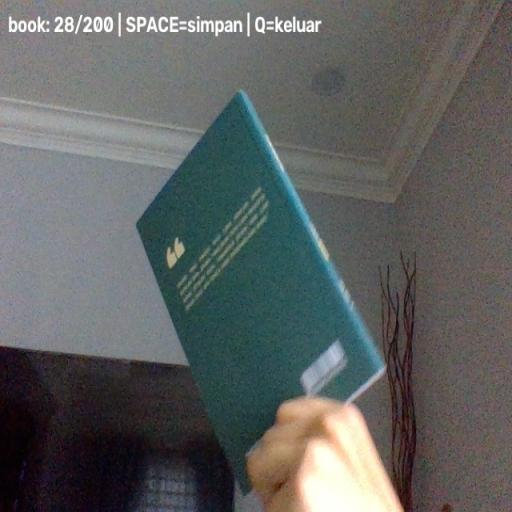Book: (136, 90, 386, 495)
